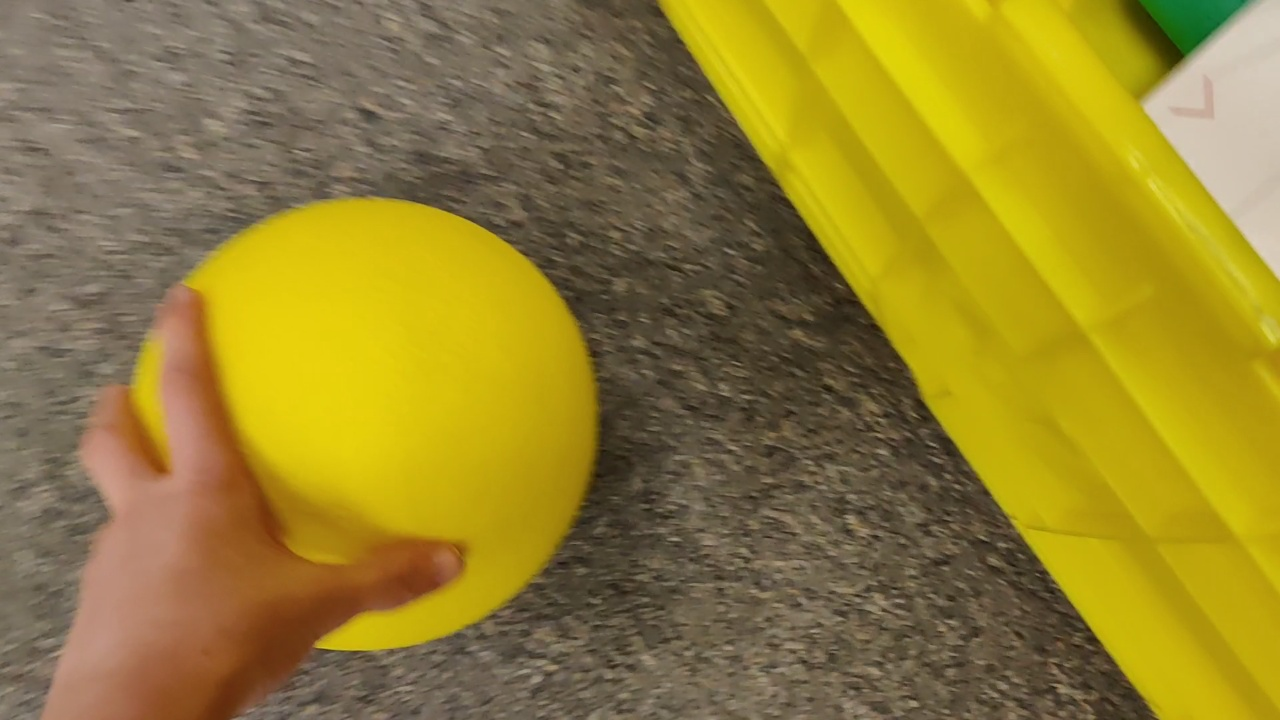Ball: (130, 204, 591, 657)
